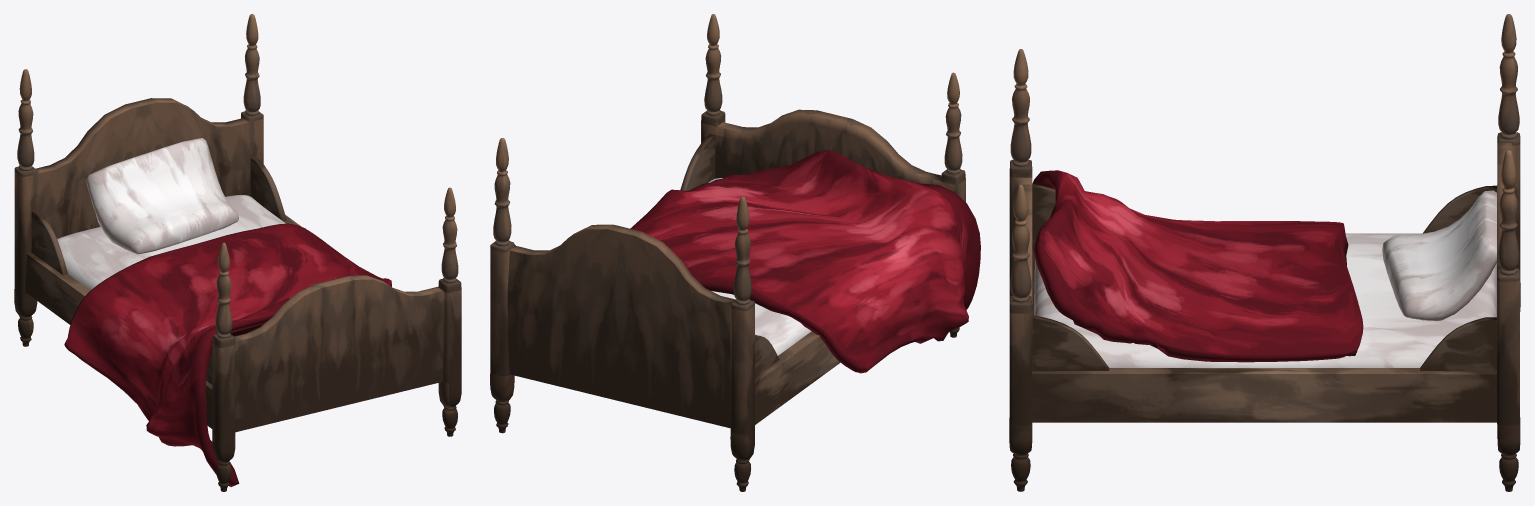
File: bed_textured.fbx
3 renders of one model, left to right at view 1: azimuth 30°, elevation 25°; view 2: azimuth 150°, elevation 25°; view 3: azimuth 270°, elevation 25°, orthographic. The views are drawn at different scales.
Visible parts, largest first — view 1: lit; view 2: lit; view 3: lit.
Part boxes in pixels (x1=…): lit: x1=14, y1=14, x2=461, y2=491; lit: x1=490, y1=14, x2=980, y2=491; lit: x1=1009, y1=14, x2=1520, y2=491.
Bounding box in the file's own units: 191 × 182 × 246.
Materials: 1 (1 with a texture image).
